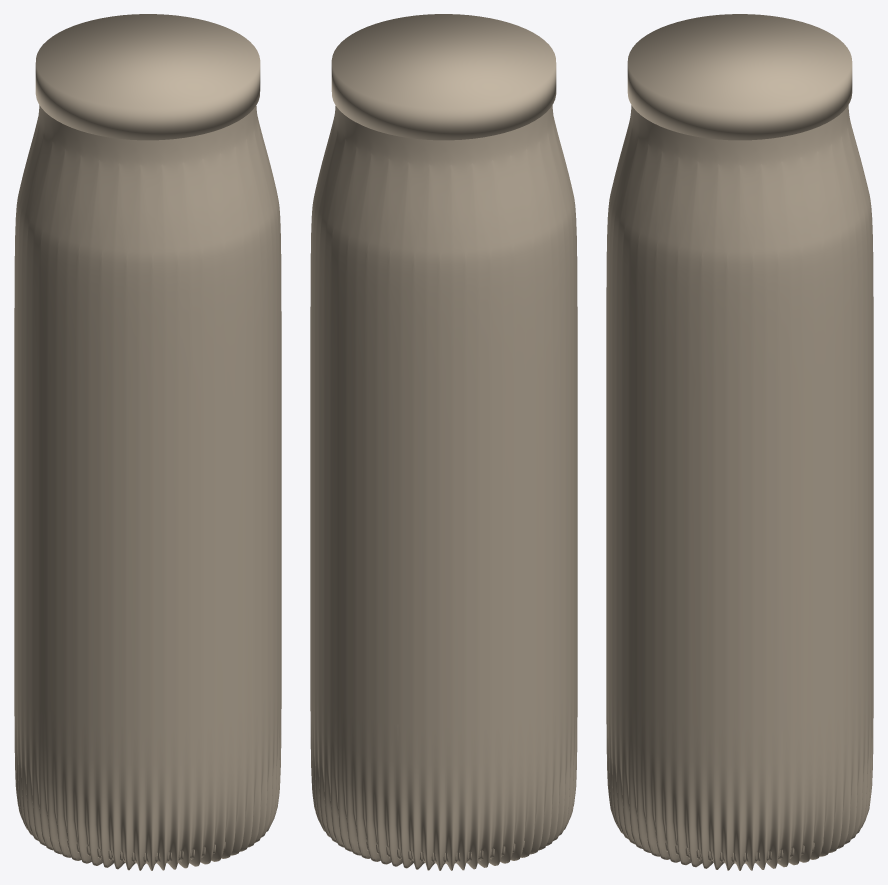
The model's file is 3dcodebench_Jar_seed0.glb.
3 renders of one model, left to right at view 1: azimuth 30°, elevation 25°; view 2: azimuth 150°, elevation 25°; view 3: azimuth 270°, elevation 25°, orthographic.
Parts seen in each view (by area): view 1: object; view 2: object; view 3: object.
Part boxes in pixels (x1,y1,x2,y2): object: (14,14,281,870); object: (310,14,577,870); object: (606,14,873,870).
Size of the model in its own units: 0.0792 by 0.2492 by 0.0792.
